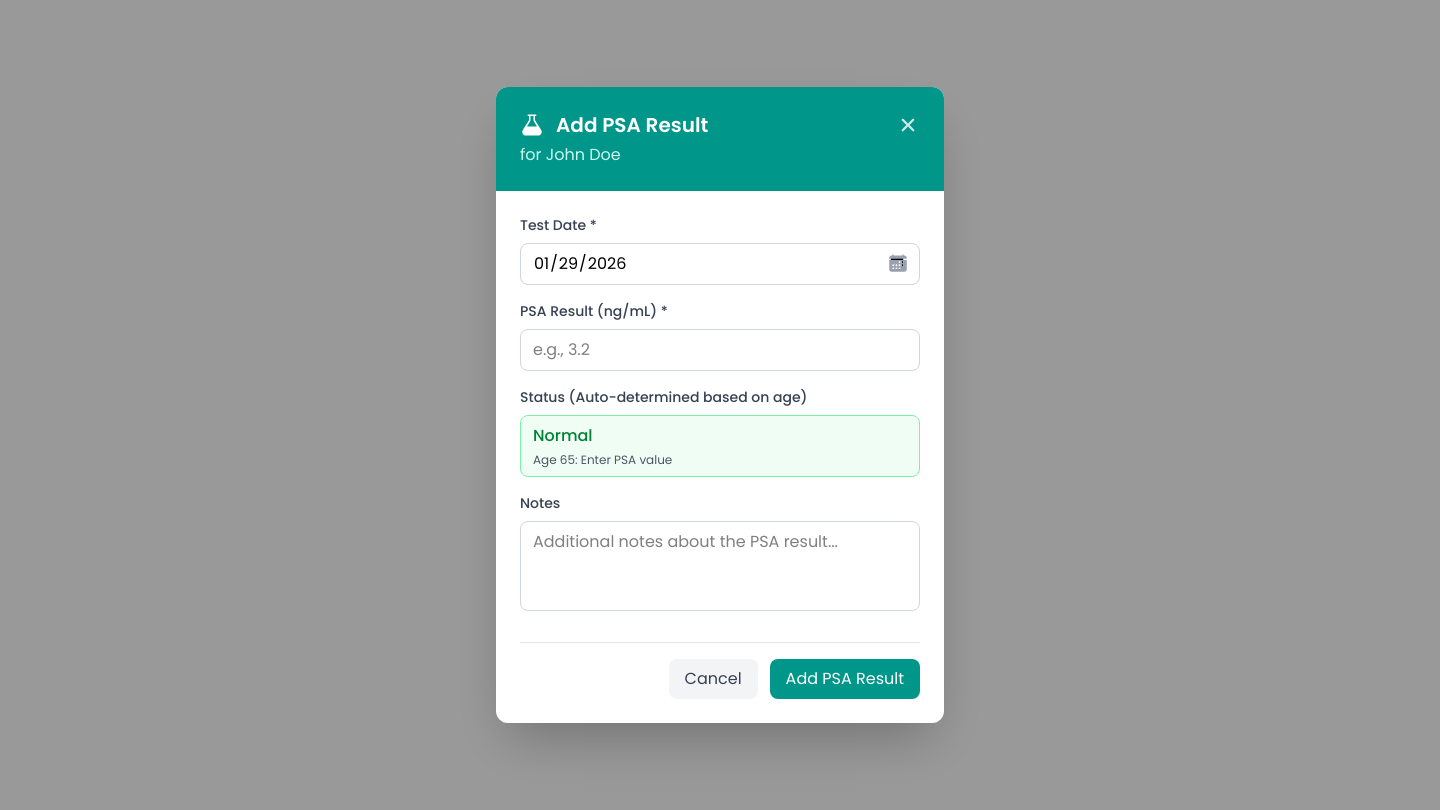
AddPSAResultModal › should handle form submission failure
Type "3.5" into the number field labelled "PSA Result (ng/mL) *" at {"x": 720, "y": 350}, box [520,329,920,371]
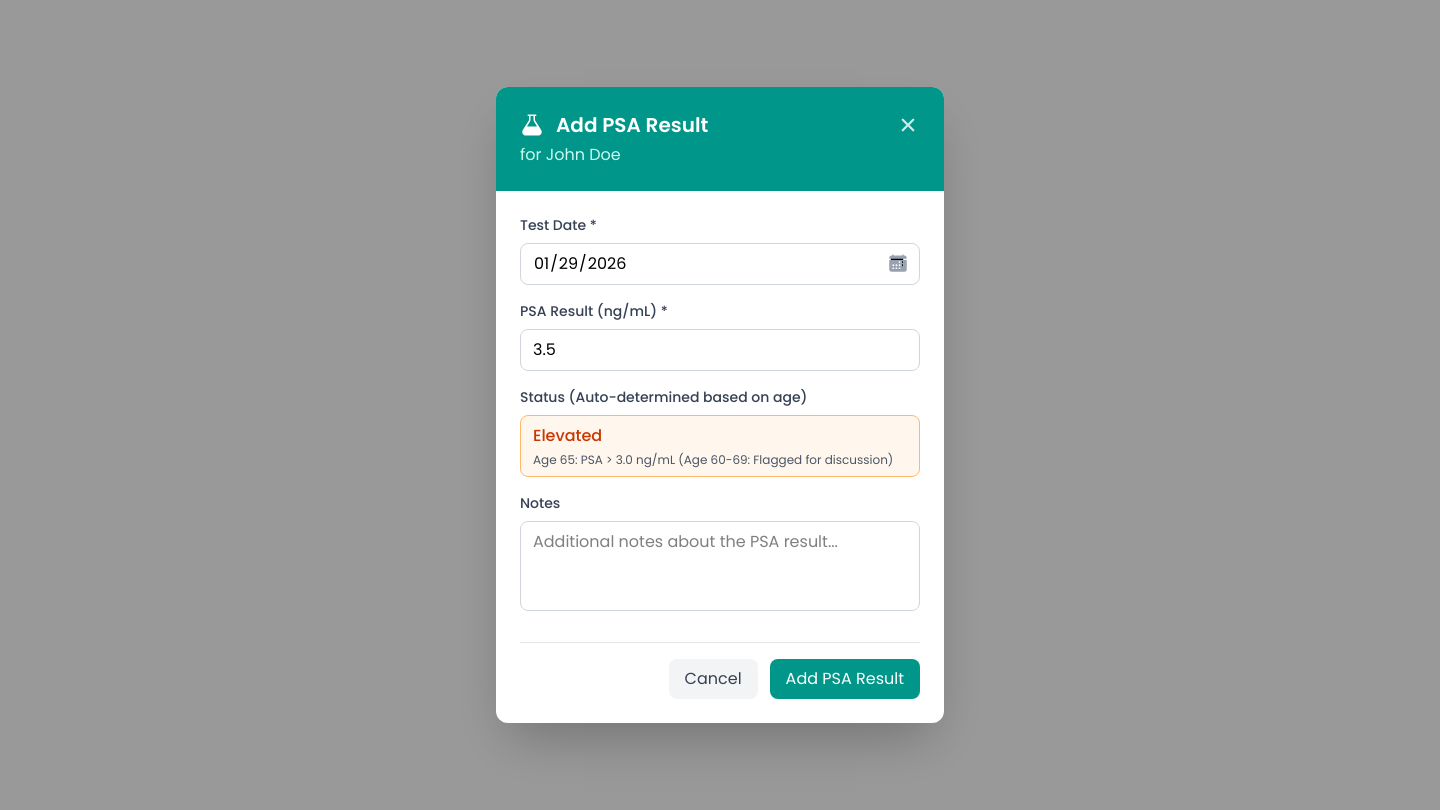
Note: Submit the form
Click the button "Add PSA Result" at {"x": 845, "y": 679}, box [770,659,920,699]
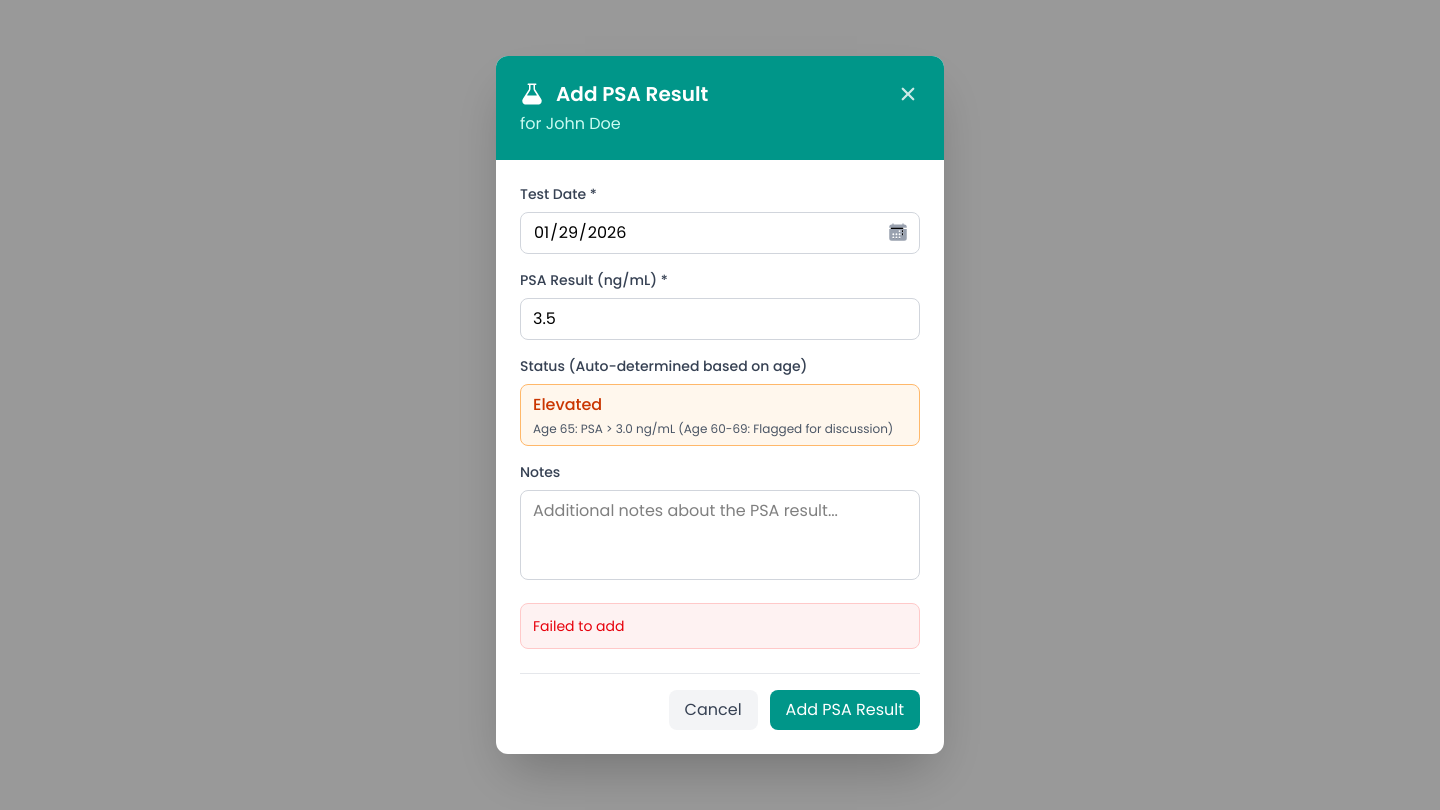
Now the text "Failed to add" is shown, box [533,616,624,636]
